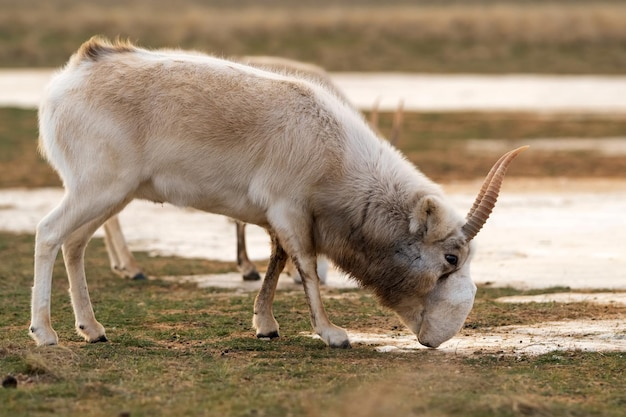saiga: (29, 36, 530, 361)
